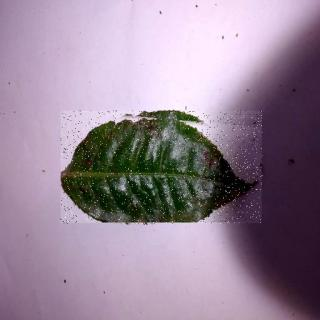Bird Eye Spot: (62, 112, 264, 225)
